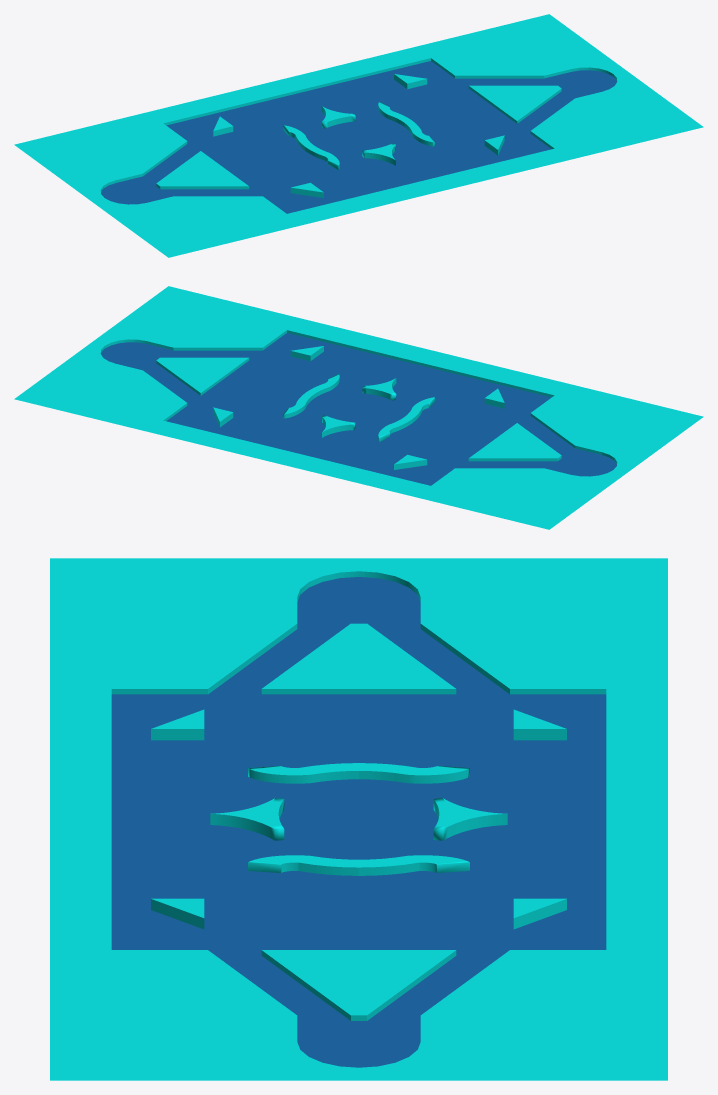
File: Final Map.fbx
3 views of the same model, one above another, from view 1: azimuth 30°, elevation 25°; view 2: azimuth 150°, elevation 25°; view 3: azimuth 270°, elevation 25° (orthographic). The views are drawn at different scales.
Parts seen in each view (by area): view 1: polySurface11, polySurface12, polySurface17; view 2: polySurface11, polySurface12, polySurface17; view 3: polySurface11, polySurface12, polySurface17, pCylinder8, pCylinder9, pCylinder10, pCylinder11.
Part boxes in pixels (<box>): polySurface11: <box>14,14,703,257</box>; polySurface12: <box>283,102,434,169</box>; polySurface17: <box>321,106,395,165</box>; polySurface11: <box>14,286,703,529</box>; polySurface12: <box>283,374,434,441</box>; polySurface17: <box>322,378,396,437</box>; polySurface11: <box>50,558,667,1080</box>; polySurface12: <box>248,763,469,875</box>; polySurface17: <box>210,798,507,840</box>; pCylinder8: <box>513,898,566,929</box>; pCylinder9: <box>151,898,204,929</box>; pCylinder10: <box>151,709,204,740</box>; pCylinder11: <box>513,709,566,740</box>.
Size of the model in its own units: 200 by 2 by 100.
